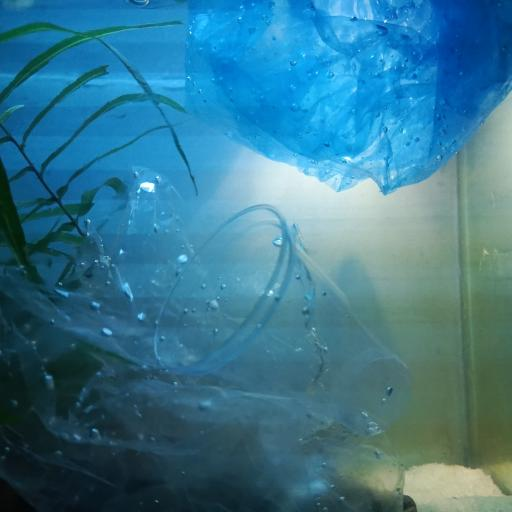plastic_bag: (0, 170, 407, 512), (182, 0, 512, 194)
plastic_cup: (155, 202, 409, 429)
